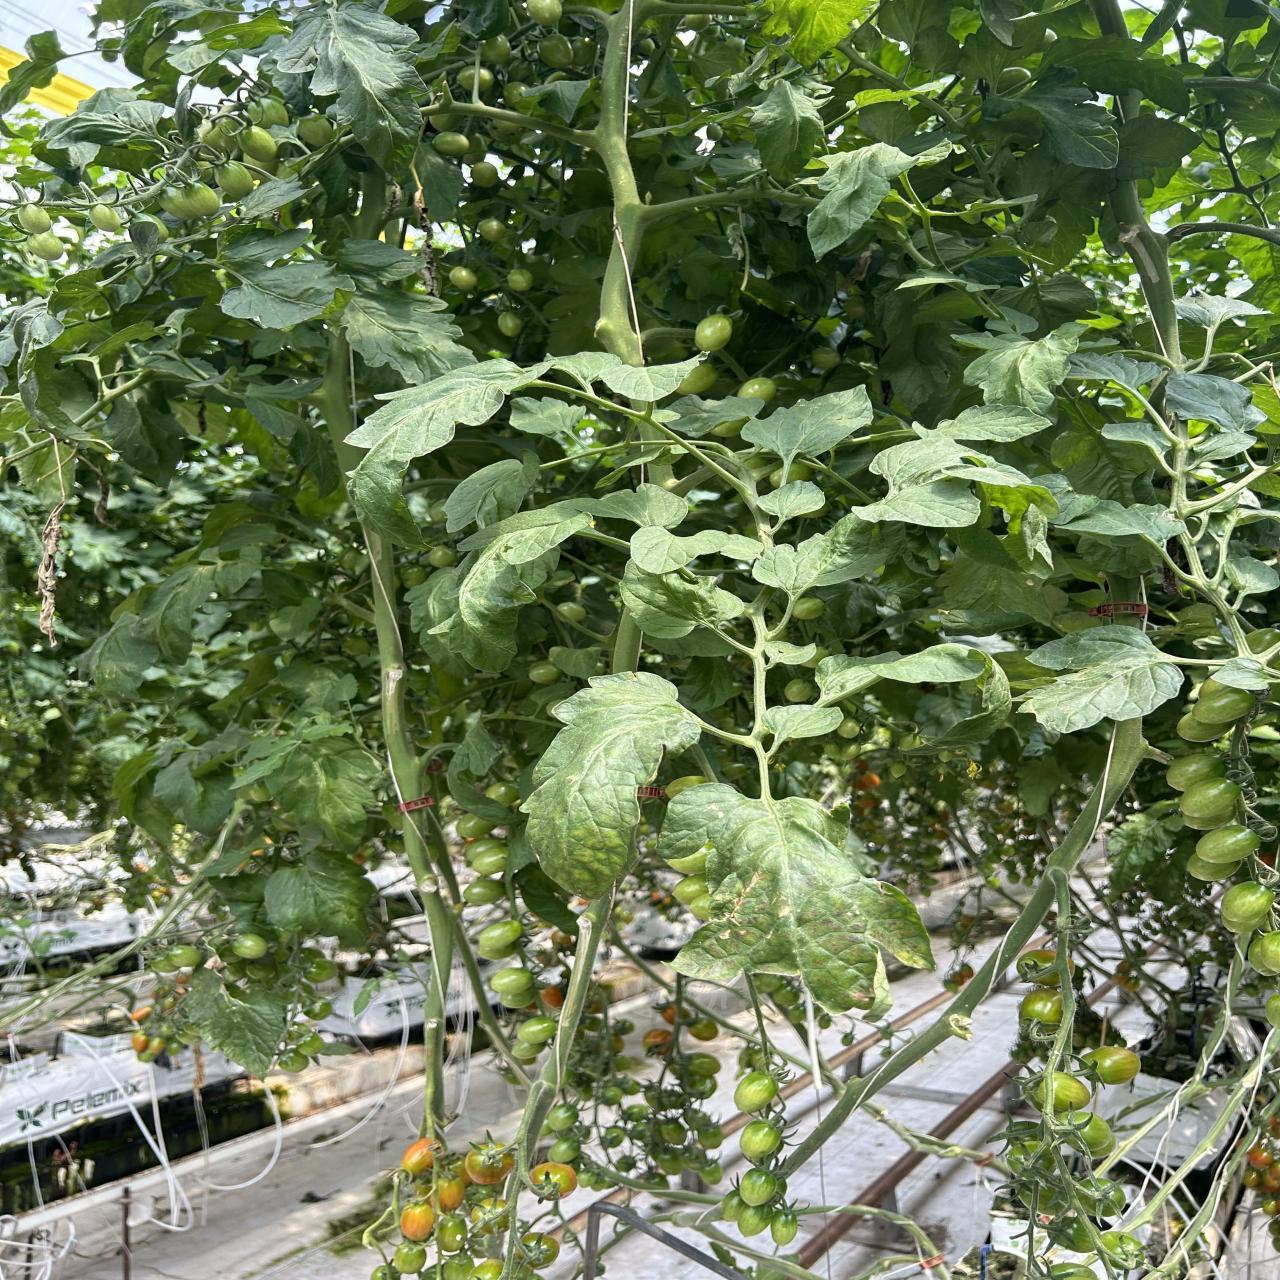Hoja: (431, 485, 689, 672), (347, 359, 554, 545), (852, 437, 989, 529), (741, 387, 872, 481), (553, 352, 697, 402), (629, 525, 763, 574), (751, 535, 837, 602), (654, 396, 765, 438), (760, 481, 825, 523)
Hoja rugoso: (659, 783, 932, 1014), (522, 672, 701, 898), (264, 849, 375, 947)
Pedunculo: (859, 719, 1145, 1099), (363, 523, 452, 1118), (574, 0, 681, 363), (787, 1119, 839, 1170)
Tomate: (182, 968, 286, 1076), (1177, 680, 1253, 742), (1187, 824, 1259, 881), (1180, 778, 1240, 830), (1191, 680, 1254, 723), (1221, 881, 1274, 933), (463, 1138, 515, 1185), (1034, 1071, 1090, 1111), (159, 184, 220, 219), (1167, 754, 1224, 791), (530, 1160, 578, 1201), (1089, 1047, 1141, 1084), (512, 1017, 557, 1061), (734, 1071, 778, 1112), (476, 919, 522, 959), (740, 1119, 781, 1163), (490, 968, 533, 1008), (238, 125, 278, 165), (217, 162, 258, 200), (1078, 1115, 1115, 1157), (1020, 988, 1062, 1023), (400, 1203, 436, 1242), (740, 1169, 777, 1206), (694, 314, 733, 350), (1248, 931, 1280, 974), (295, 115, 335, 149), (401, 1138, 437, 1175), (736, 1203, 774, 1238), (251, 96, 290, 128), (393, 1241, 427, 1273), (434, 1178, 465, 1212), (18, 204, 53, 234), (769, 1211, 798, 1247), (27, 232, 64, 260), (437, 1218, 468, 1252), (431, 131, 470, 157), (88, 204, 123, 232), (721, 1190, 749, 1221), (448, 266, 478, 292), (497, 309, 524, 338), (471, 162, 498, 188), (478, 218, 506, 241), (506, 268, 532, 292)
